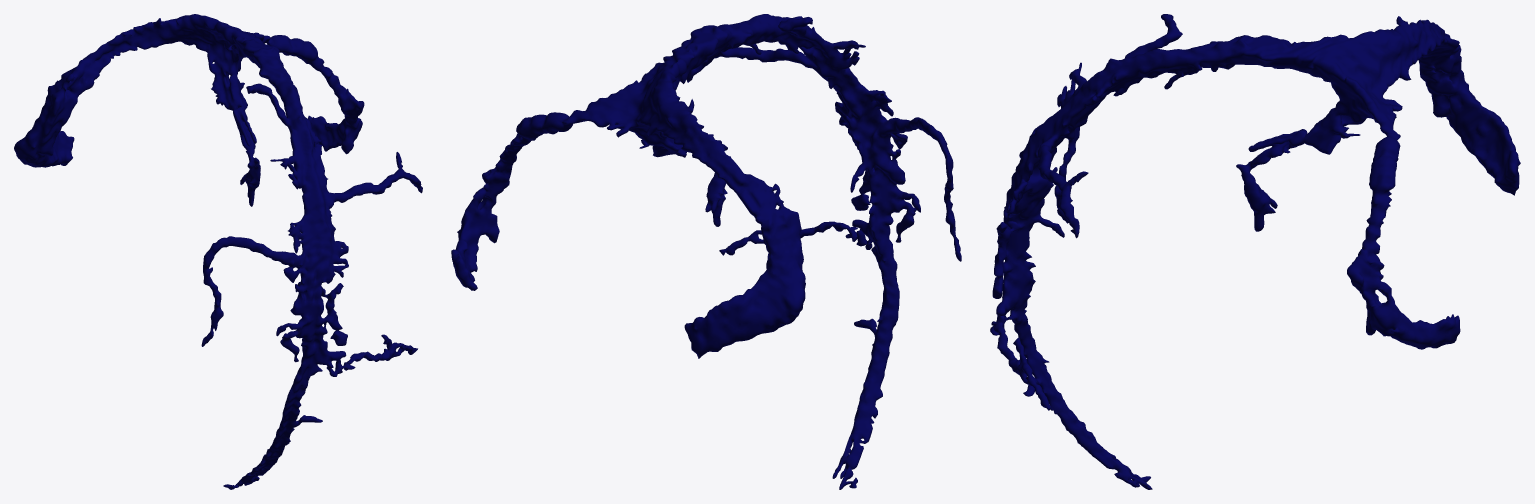
Rendered from Venous_sinus.obj.
3 views of the same model, side by side, from view 1: azimuth 30°, elevation 25°; view 2: azimuth 150°, elevation 25°; view 3: azimuth 270°, elevation 25° (orthographic). The views are drawn at different scales.
Parts seen in each view (by area): view 1: grp1; view 2: grp1; view 3: grp1.
Boxes of the visible parts, x1,y1,x2,y2 form: grp1: (14, 14, 422, 489); grp1: (451, 14, 961, 489); grp1: (990, 14, 1520, 489).
Size of the model in its own units: 109 by 131 by 128.
